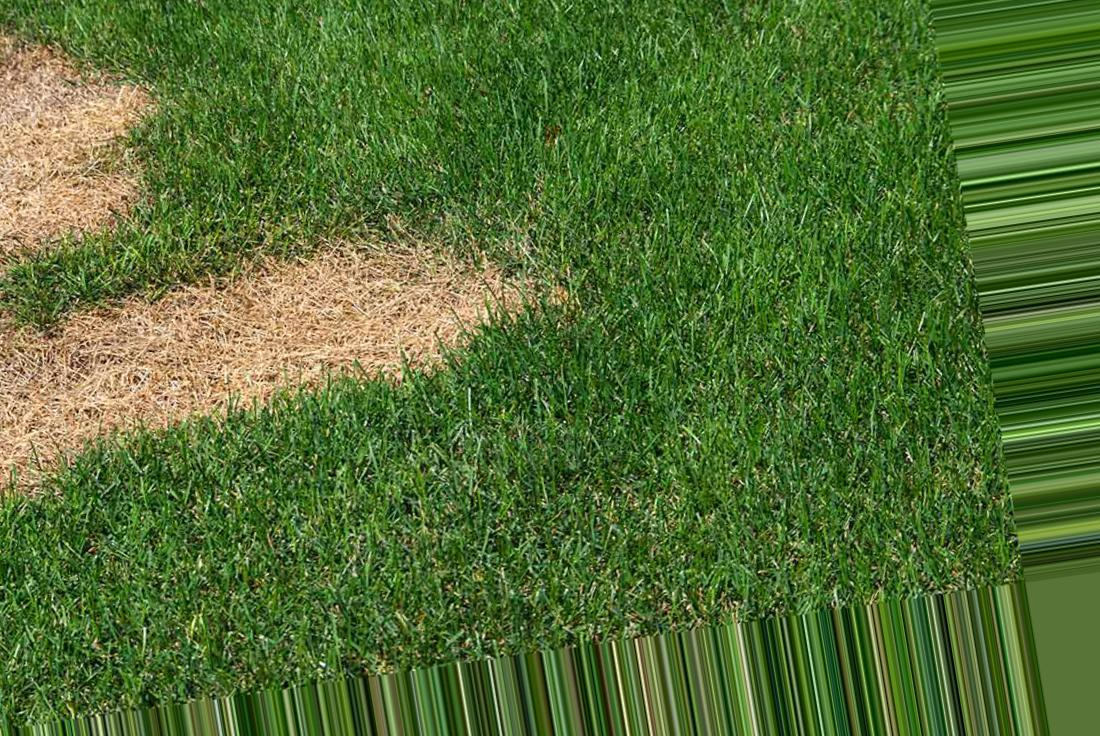patch: (19, 247, 532, 359), (1, 59, 123, 218), (28, 355, 164, 455)
